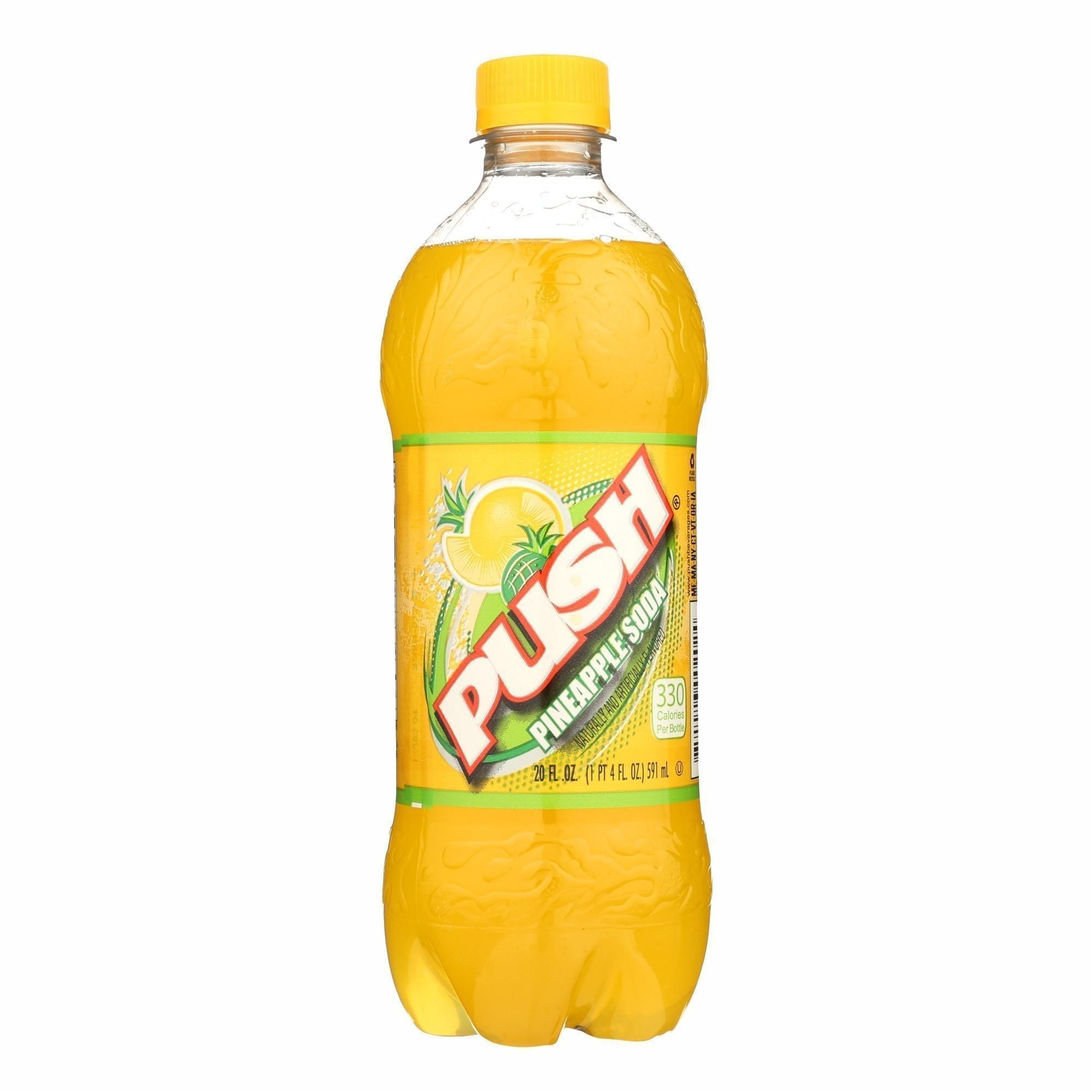bottle-plastic: (374, 41, 720, 1063)
